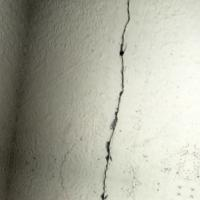crack: (101, 0, 138, 199)
